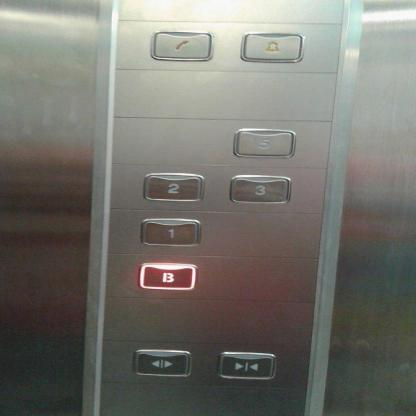1: (139, 219, 201, 246)
2: (144, 172, 203, 202)
3: (229, 174, 291, 203)
5: (231, 127, 298, 157)
B: (138, 262, 197, 290)
alarm: (240, 32, 305, 62)
call: (150, 30, 214, 61)
close: (217, 350, 276, 378)
open: (132, 349, 192, 376)
